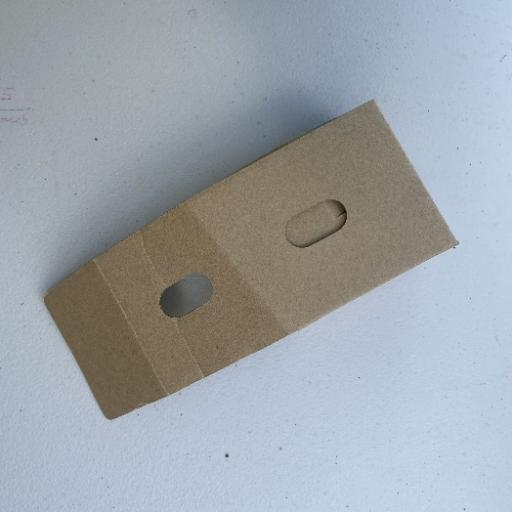Cardboard: (41, 97, 460, 421)
